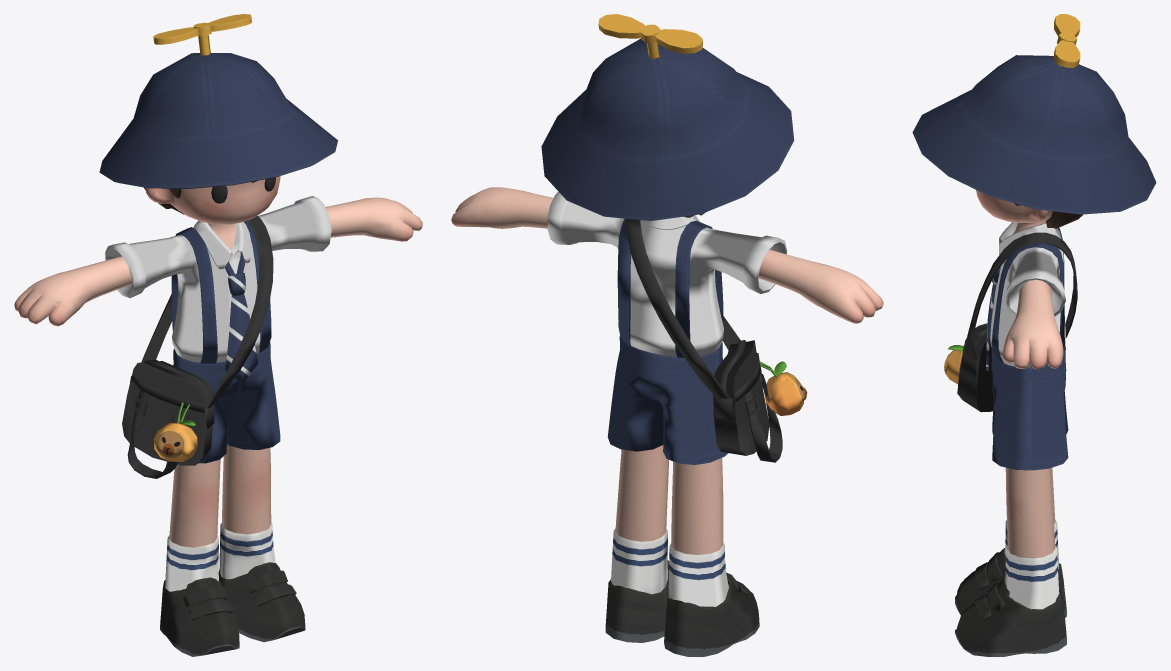
The model's file is avatar.glb.
3 renders of one model, left to right at view 1: azimuth 30°, elevation 25°; view 2: azimuth 150°, elevation 25°; view 3: azimuth 270°, elevation 25°, orthographic. The views are drawn at different scales.
Visible parts, largest first — view 1: hairHat, cloth, body, shoes, messengerBag; view 2: hairHat, cloth, body, shoes, messengerBag; view 3: hairHat, cloth, shoes, body, messengerBag.
Boxes of the visible parts, left/top/right/bottom form: hairHat: left=99, top=14, right=337, bottom=214; cloth: left=105, top=196, right=331, bottom=463; body: left=14, top=176, right=422, bottom=547; shoes: left=160, top=523, right=305, bottom=656; messengerBag: left=122, top=216, right=273, bottom=478; hairHat: left=541, top=14, right=794, bottom=220; cloth: left=547, top=191, right=787, bottom=464; body: left=451, top=187, right=883, bottom=554; shoes: left=605, top=528, right=759, bottom=656; messengerBag: left=625, top=218, right=807, bottom=462; hairHat: left=912, top=14, right=1156, bottom=228; cloth: left=986, top=222, right=1068, bottom=470; shoes: left=955, top=519, right=1066, bottom=656; body: left=976, top=190, right=1063, bottom=558; messengerBag: left=944, top=232, right=1077, bottom=412.
Size of the model in its own units: 1.26 by 1.79 by 0.6675.
6 materials, 5 textured.
